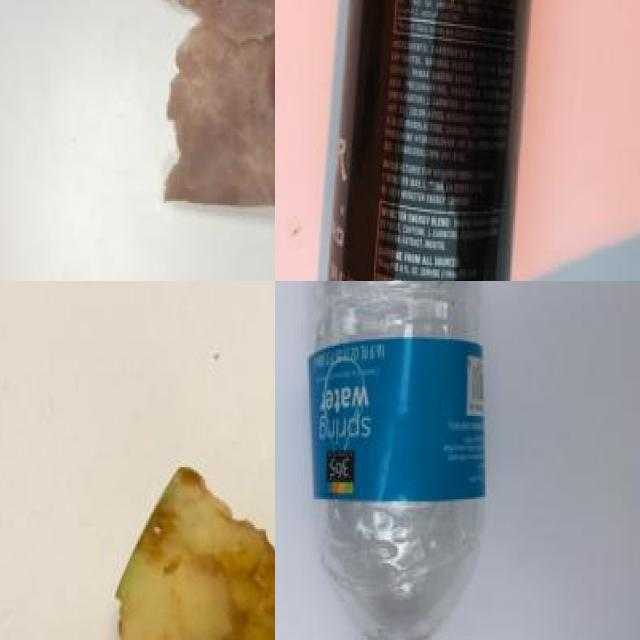compost: (89, 0, 275, 228), (106, 442, 275, 640)
plastic: (301, 281, 509, 640), (330, 0, 533, 281)
